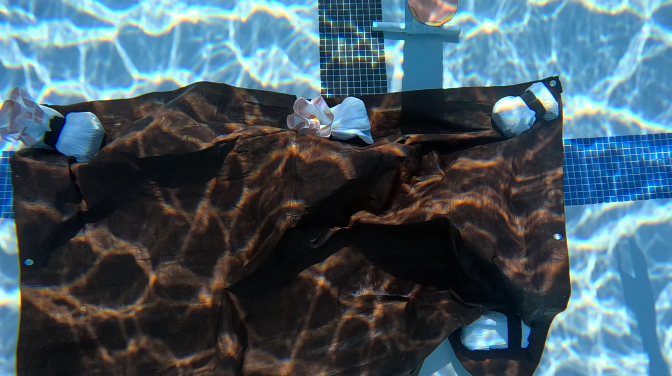pathmarker: (407, 0, 455, 24)
sandbag: (0, 75, 569, 373)
